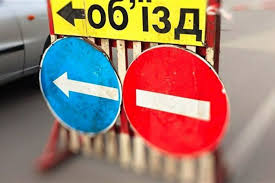No entry: (122, 46, 230, 159)
